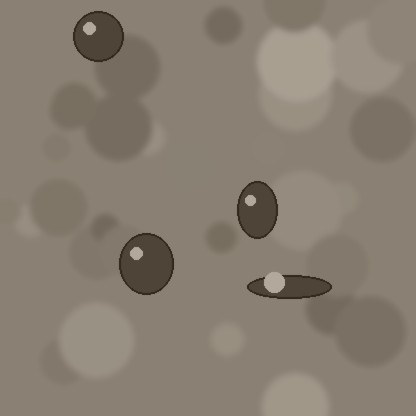gota: (119, 235, 173, 299), (73, 13, 123, 65), (237, 183, 277, 243), (247, 276, 331, 300)
